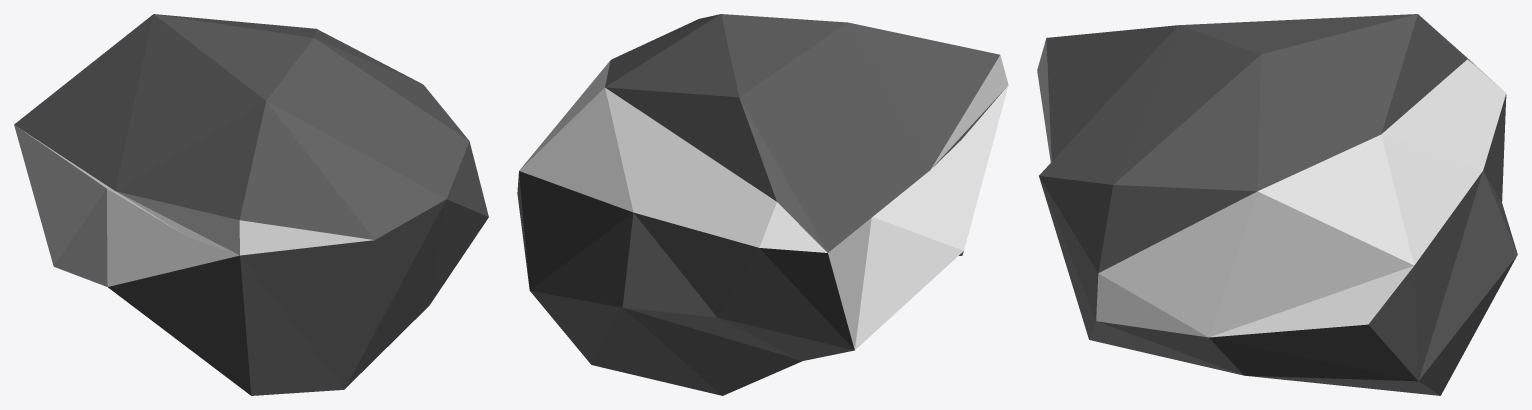
File: IridiumOre_1.fbx
3 views of the same model, side by side, from view 1: azimuth 30°, elevation 25°; view 2: azimuth 150°, elevation 25°; view 3: azimuth 270°, elevation 25° (orthographic). The views are drawn at different scales.
Parts seen in each view (by area): view 1: IridiumOre_LOD0; view 2: IridiumOre_LOD0; view 3: IridiumOre_LOD0.
Part boxes in pixels (x1,y1,x2,y2): IridiumOre_LOD0: (14,14,488,395); IridiumOre_LOD0: (517,14,1008,395); IridiumOre_LOD0: (1037,14,1517,395).
Size of what is drawn, in the model's own units: 177 by 146 by 182.
